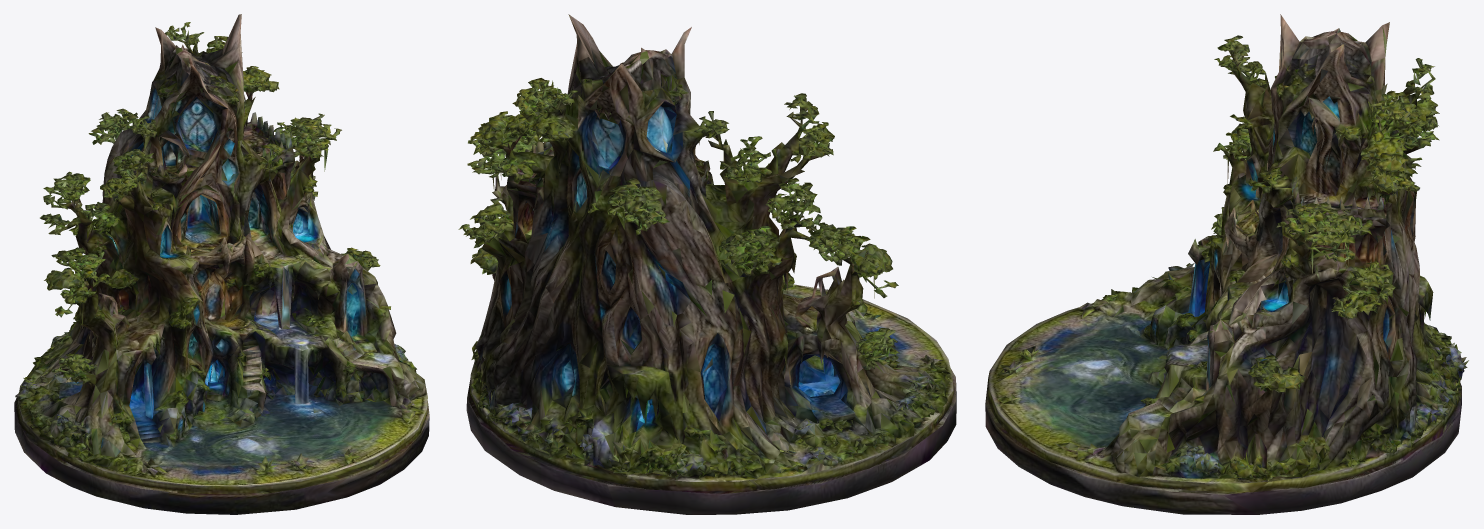
Rendered from Sapphire_Grove_Citade.glb.
3 renders of one model, left to right at view 1: azimuth 30°, elevation 25°; view 2: azimuth 150°, elevation 25°; view 3: azimuth 270°, elevation 25°, orthographic. The views are drawn at different scales.
Visible parts, largest first — view 1: Sapphire_Grove_Citade; view 2: Sapphire_Grove_Citade; view 3: Sapphire_Grove_Citade.
Boxes of the visible parts, x1=… form: Sapphire_Grove_Citade: x1=14, y1=14, x2=429, y2=514; Sapphire_Grove_Citade: x1=458, y1=14, x2=956, y2=514; Sapphire_Grove_Citade: x1=985, y1=14, x2=1468, y2=514.
Bounding box in the file's own units: 1.87 × 1.77 × 1.89.
Materials: 1 (1 with a texture image).
